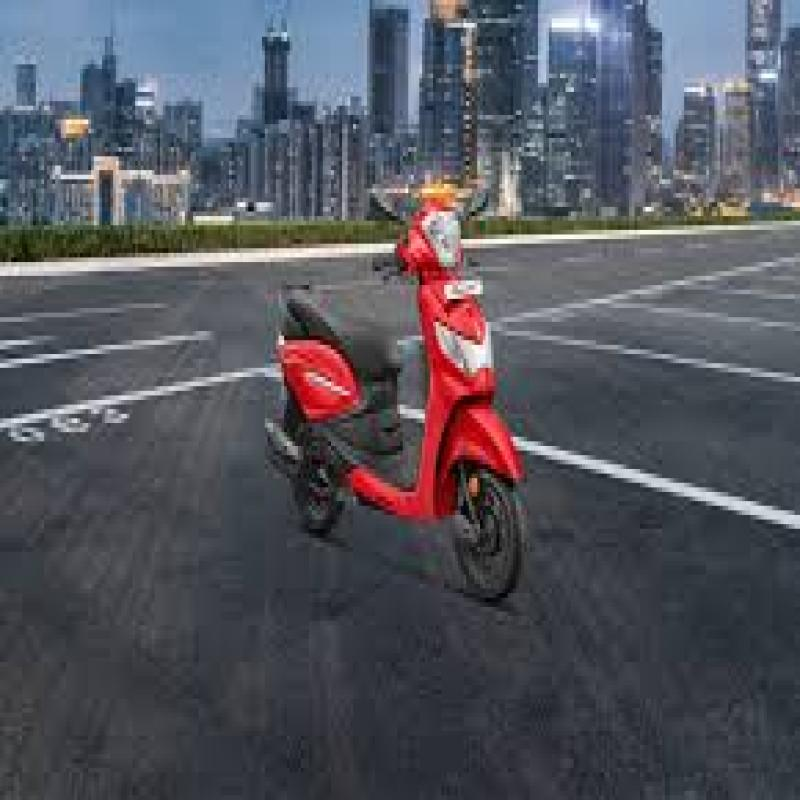bike: (249, 195, 560, 615)
